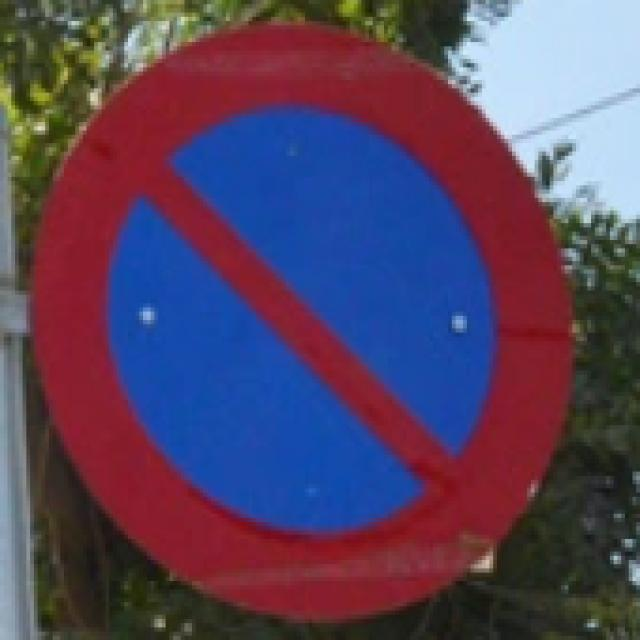Bien bao cam do xe: (26, 17, 576, 623)
